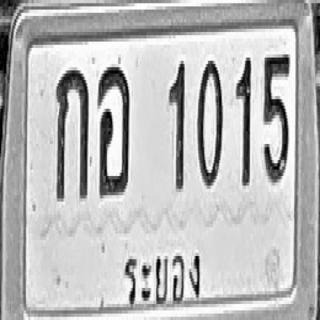A01: (55, 66, 89, 200)
A43: (97, 64, 129, 195)
N00: (197, 58, 223, 186)
N01: (168, 58, 185, 192), (235, 54, 251, 186)
N05: (263, 51, 290, 182)
P53: (120, 242, 206, 314)
